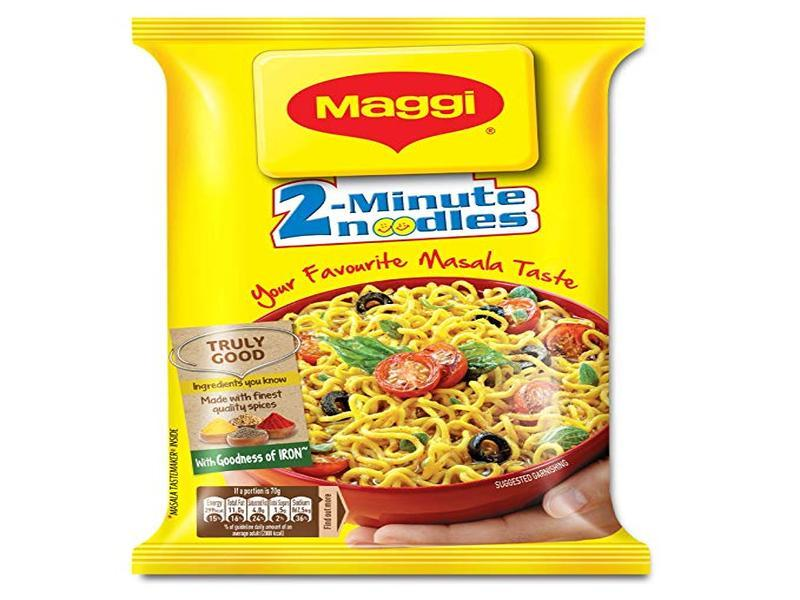maggi-small: (128, 27, 655, 566)
